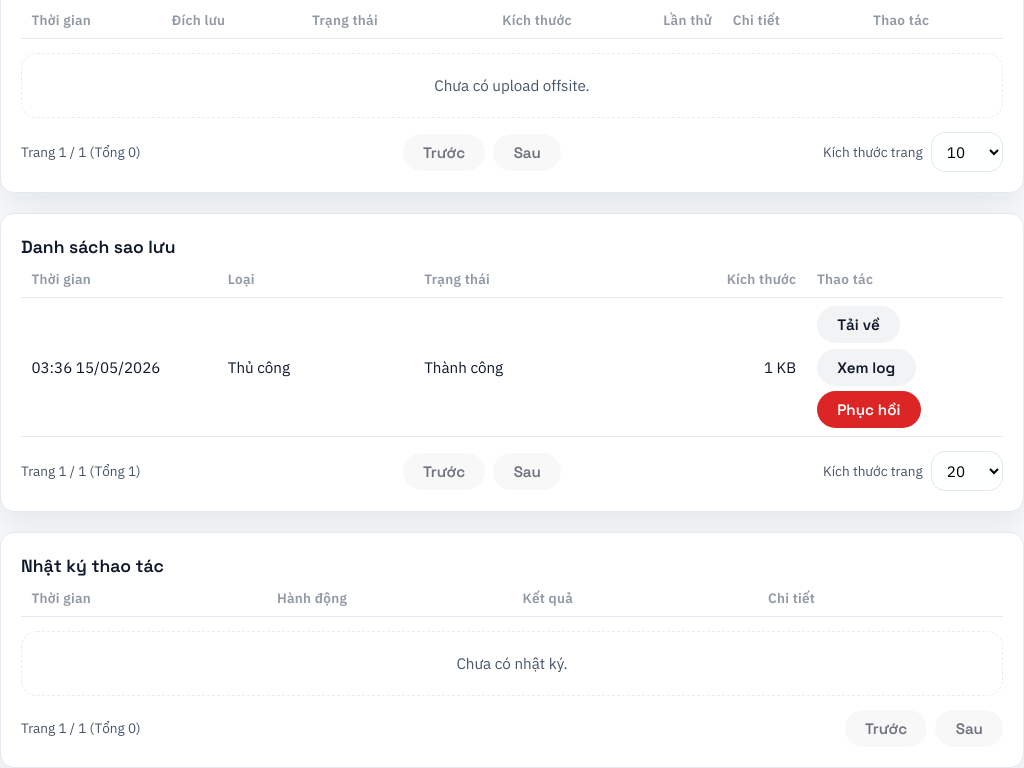
Test case: admin backup page › clears restore notice on job restore failure
This screenshot has width=1024, height=768.
(page scrolled)
Click the button "Phục hồi". click: (869, 410)
box: [817,391,921,428]
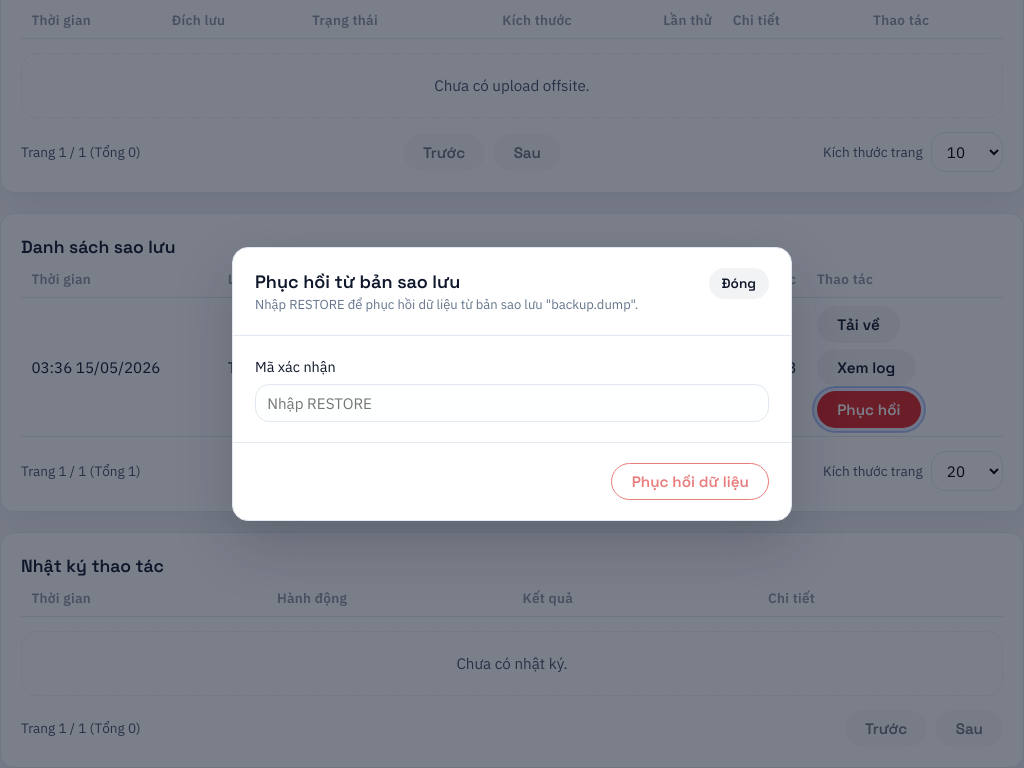
Result: the dialog is shown at [232,247,792,520]
Type "RESTORE" into the field labelled "Mã xác nhận". click: (512, 402)
box: [255,384,769,422]
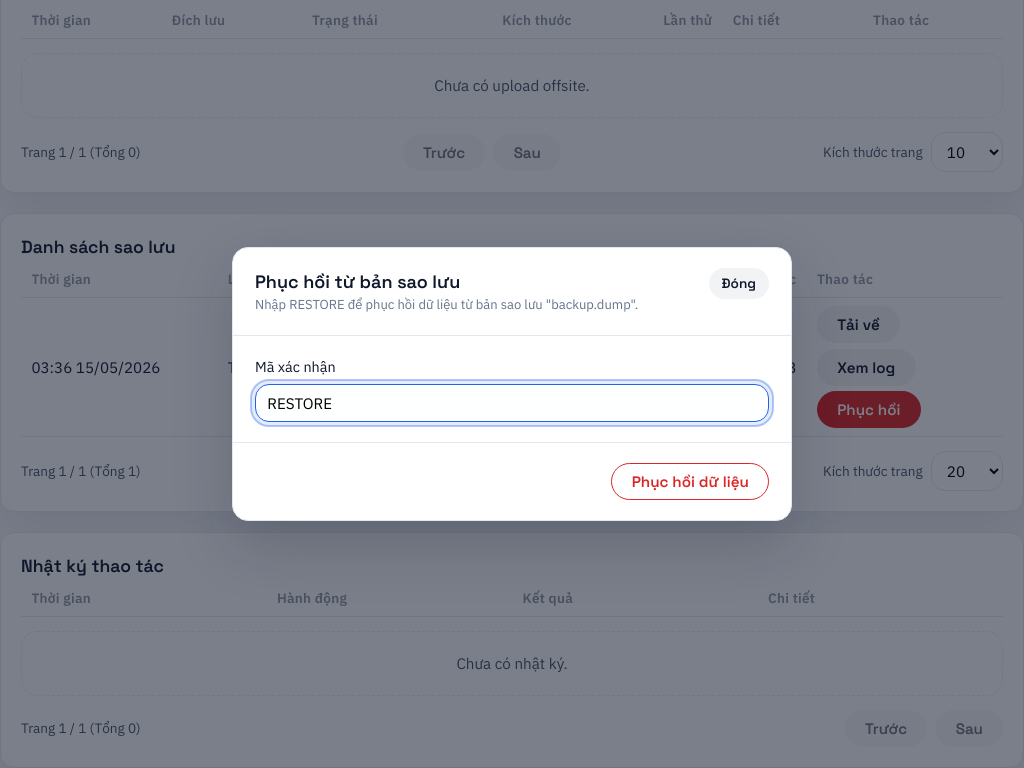
Click the button "Phục hồi dữ liệu". click: (690, 481)
box: [612,462,769,500]
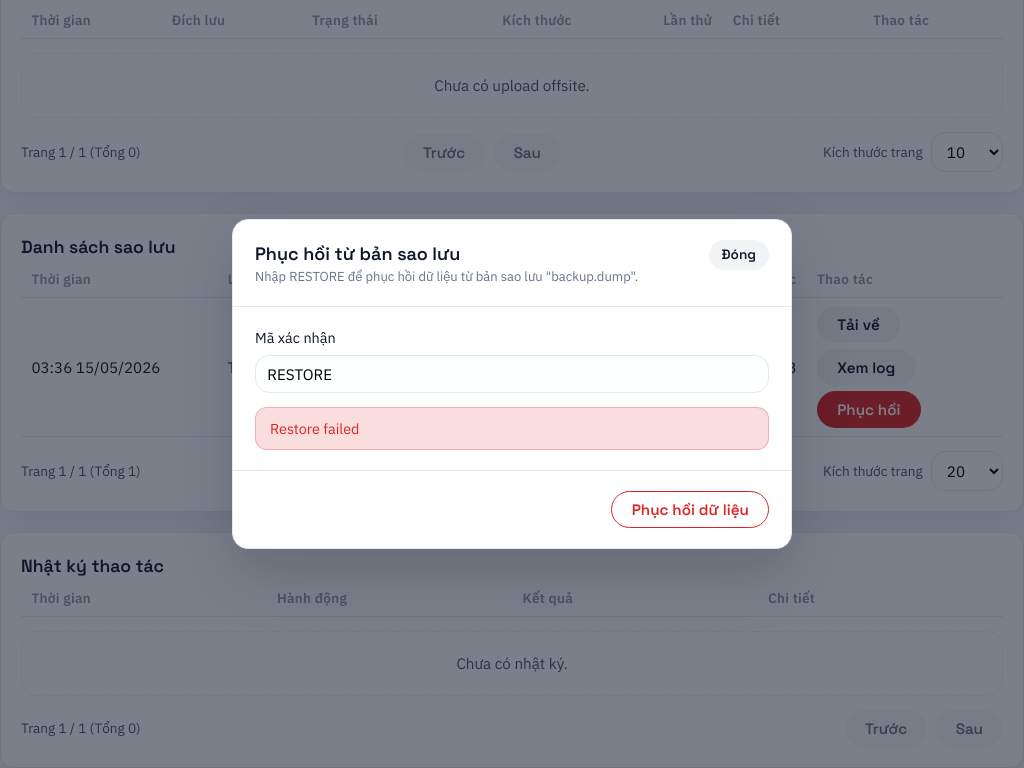
Result: the text "Restore failed" is shown at [255,407,769,450]
